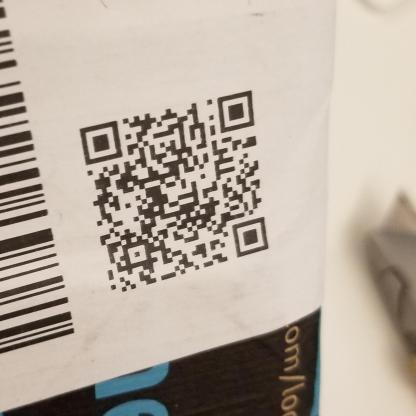barcode: (1, 1, 81, 357)
qr: (76, 86, 278, 293)
